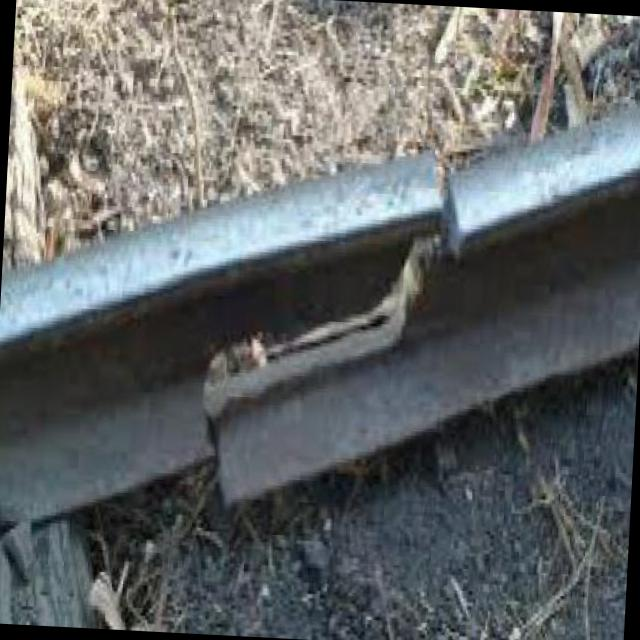defective: (32, 71, 609, 586)
